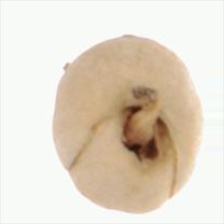L3: (118, 102, 174, 165)
L4: (52, 35, 202, 215)
